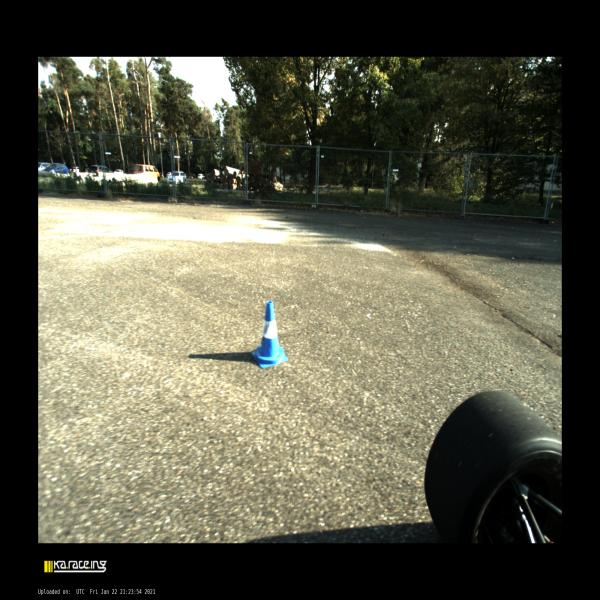blue_cone: (252, 301, 288, 368)
